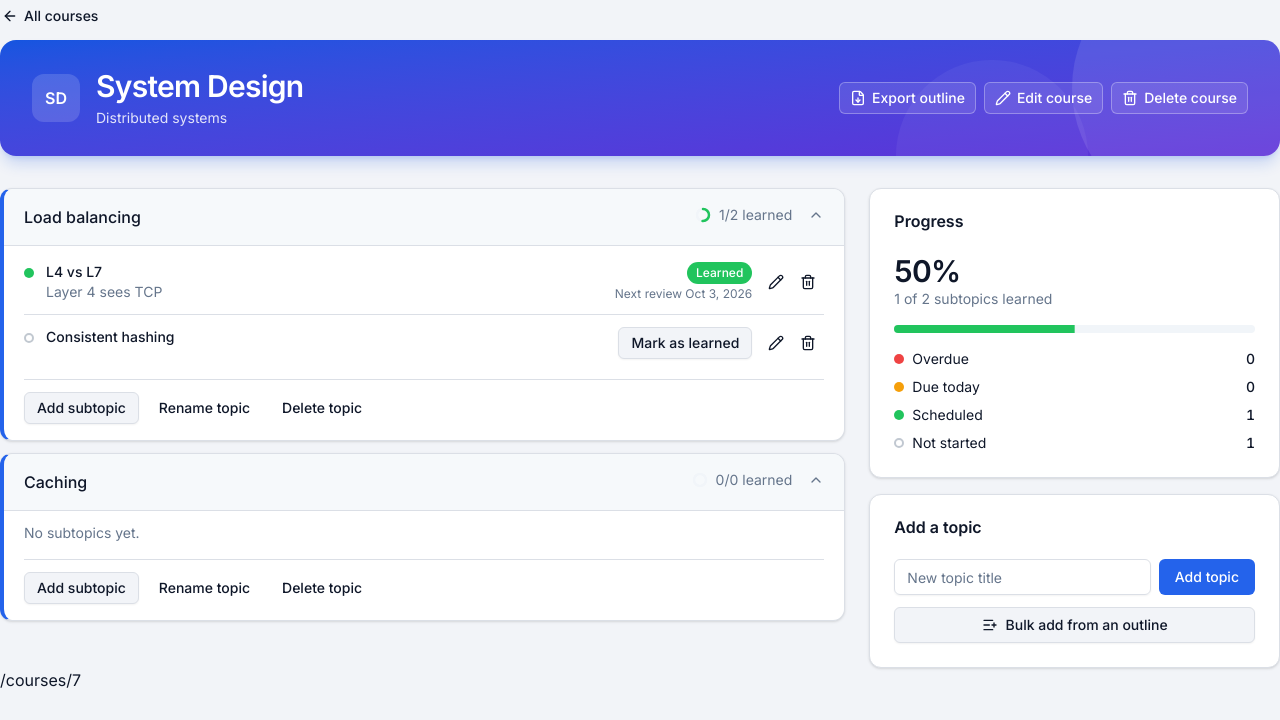
Test: editing the course › opens with the current title and description
Click the button "Edit course": click(1044, 98) [984, 82, 1103, 114]
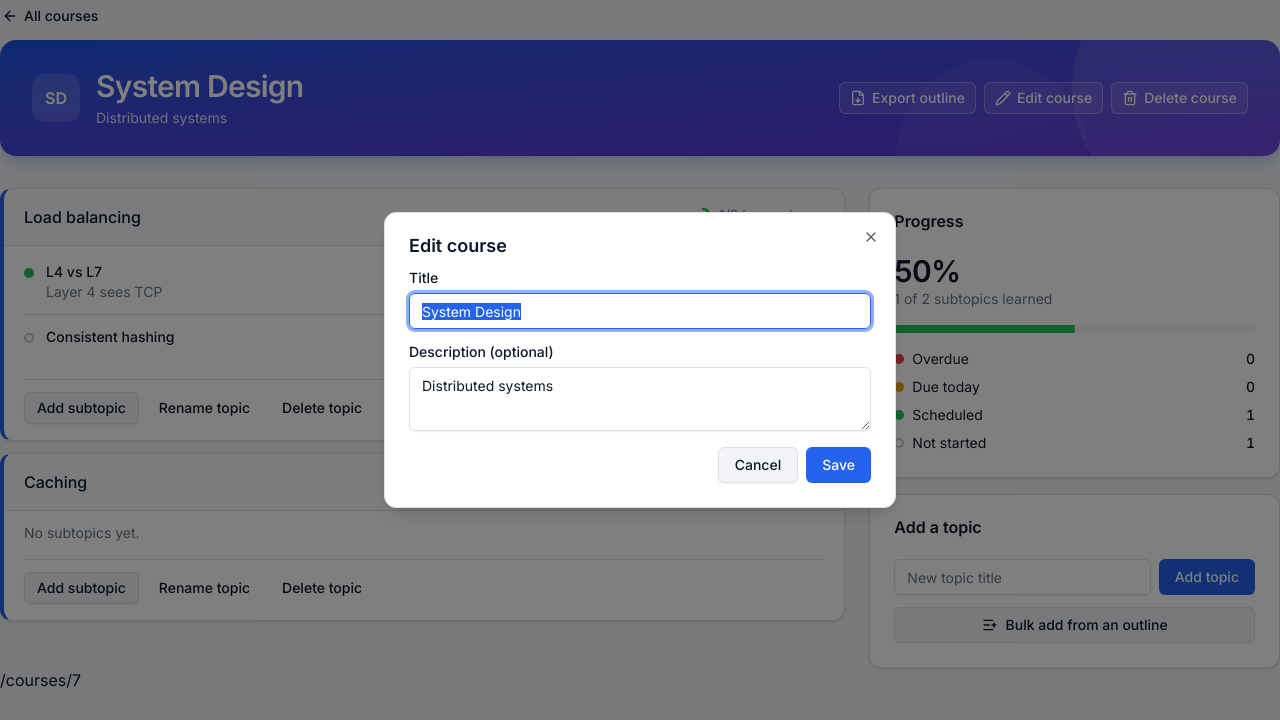
Check: the heading "Edit course" is shown, box [409, 235, 507, 256]
Check: the field labelled "Title" holds "System Design", box [409, 293, 871, 329]
Check: the text box labelled "Description (optional)" holds "Distributed systems", box [409, 367, 871, 431]
